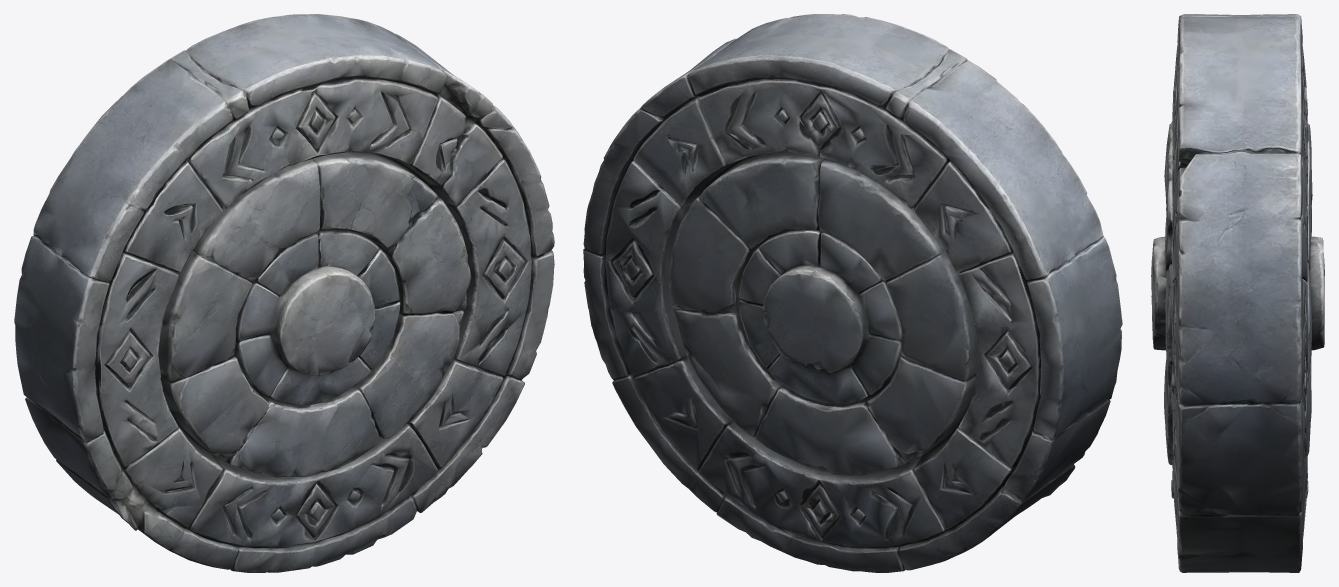
The model's file is escudo.glb.
3 renders of one model, left to right at view 1: azimuth 30°, elevation 25°; view 2: azimuth 150°, elevation 25°; view 3: azimuth 270°, elevation 25°, orthographic.
Parts seen in each view (by area): view 1: tripo_node_93212f1c-2575-47e1-8220-b094cf0518e8; view 2: tripo_node_93212f1c-2575-47e1-8220-b094cf0518e8; view 3: tripo_node_93212f1c-2575-47e1-8220-b094cf0518e8.
Boxes of the visible parts, x1,y1,x2,y2 form: tripo_node_93212f1c-2575-47e1-8220-b094cf0518e8: (14,14,554,572); tripo_node_93212f1c-2575-47e1-8220-b094cf0518e8: (583,14,1122,572); tripo_node_93212f1c-2575-47e1-8220-b094cf0518e8: (1151,14,1324,572).
Size of the model in its own units: 0.9988 by 0.9998 by 0.3099.
1 material, 1 textured.
